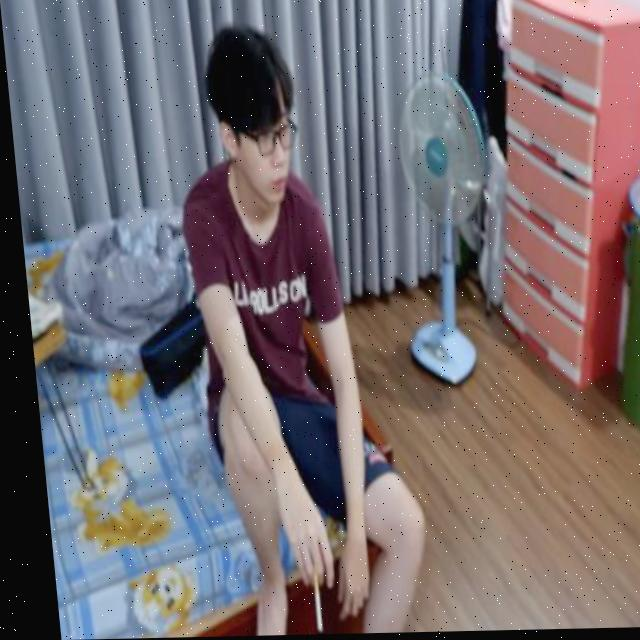cigarette: (300, 573, 310, 634)
